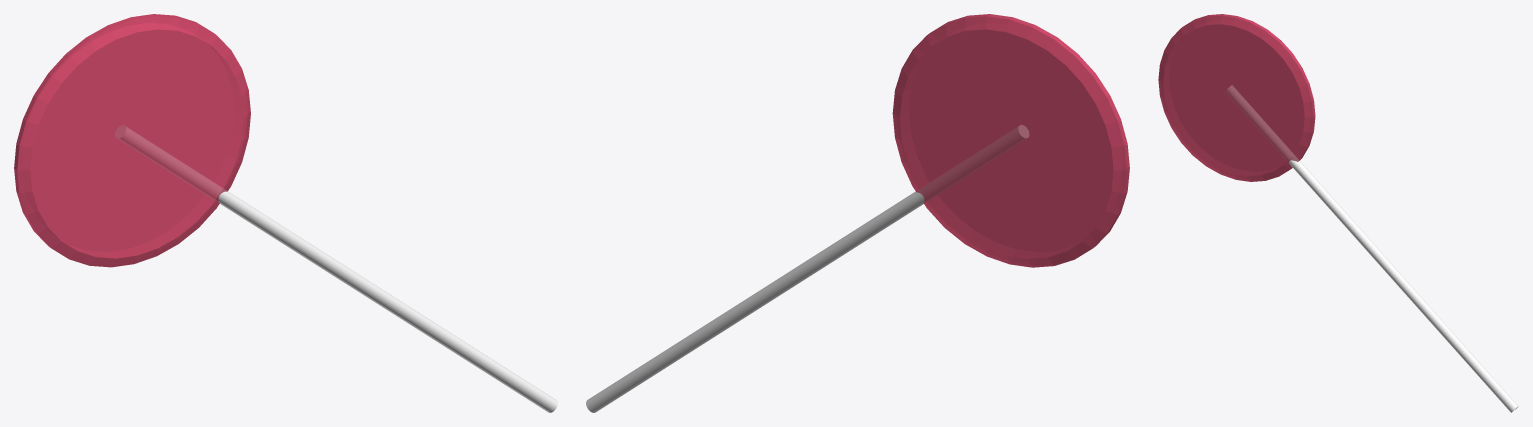
Rendered from archiePOP.fbx.
3 views of the same model, side by side, from view 1: azimuth 30°, elevation 25°; view 2: azimuth 150°, elevation 25°; view 3: azimuth 330°, elevation 25° (orthographic). The views are drawn at different scales.
Parts seen in each view (by area): view 1: ArchiePOP, ArchieLOLI; view 2: ArchiePOP, ArchieLOLI; view 3: ArchiePOP, ArchieLOLI.
Part boxes in pixels (left/top/right/bottom): ArchiePOP: left=14, top=14, right=250, bottom=267; ArchieLOLI: left=115, top=125, right=557, bottom=412; ArchiePOP: left=892, top=14, right=1129, bottom=267; ArchieLOLI: left=586, top=125, right=1028, bottom=412; ArchiePOP: left=1158, top=14, right=1315, bottom=181; ArchieLOLI: left=1225, top=85, right=1518, bottom=412.
Size of the model in its own units: 623 by 545 by 18.
